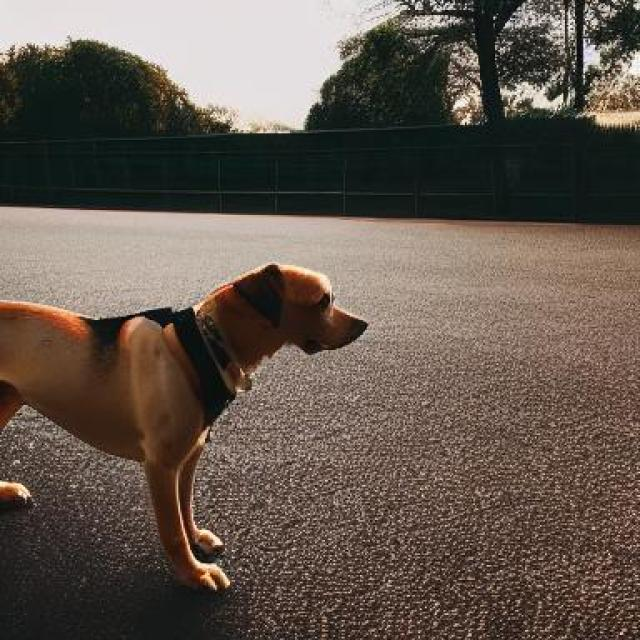Dog: (0, 262, 368, 596)
